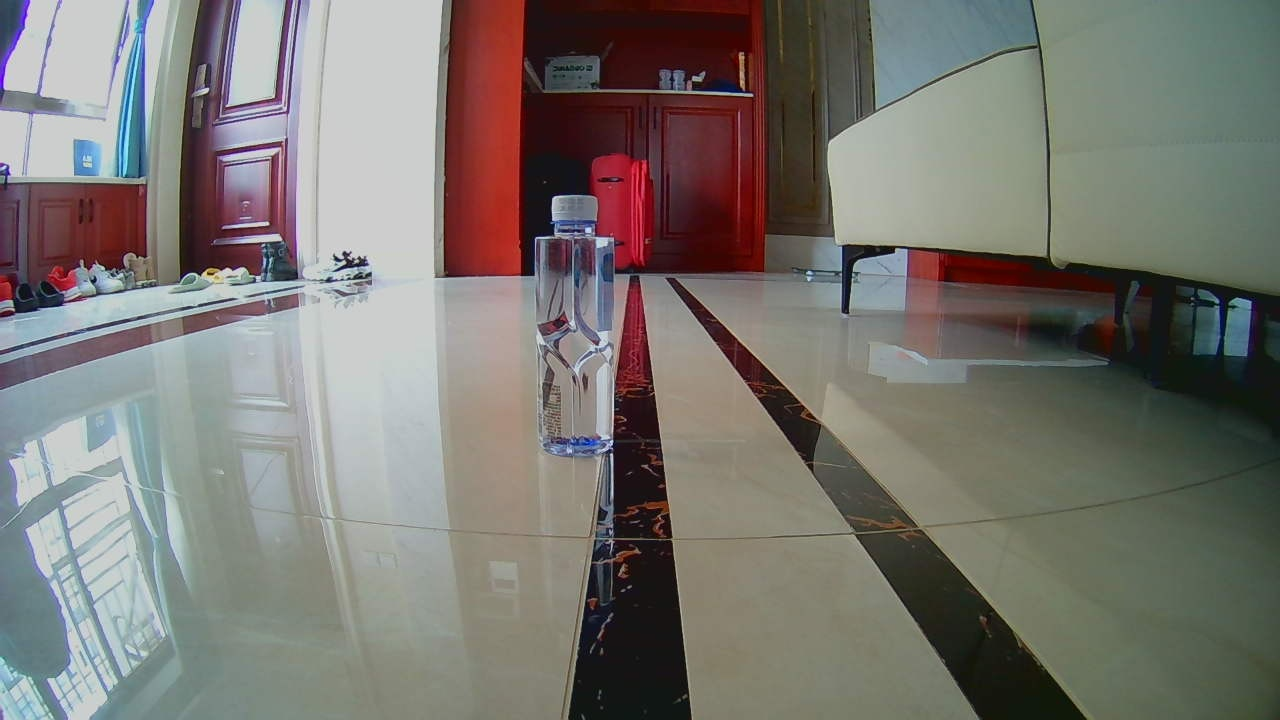water: (533, 196, 615, 452)
